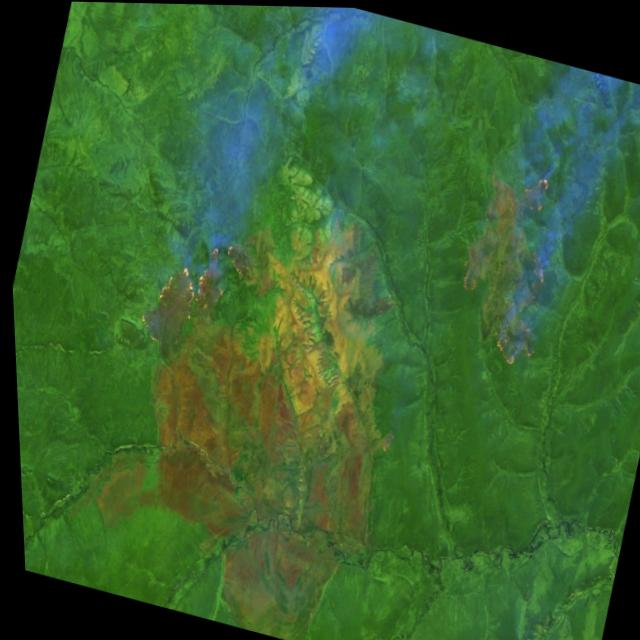fire: (125, 213, 251, 360), (475, 232, 561, 374), (510, 160, 556, 217)
